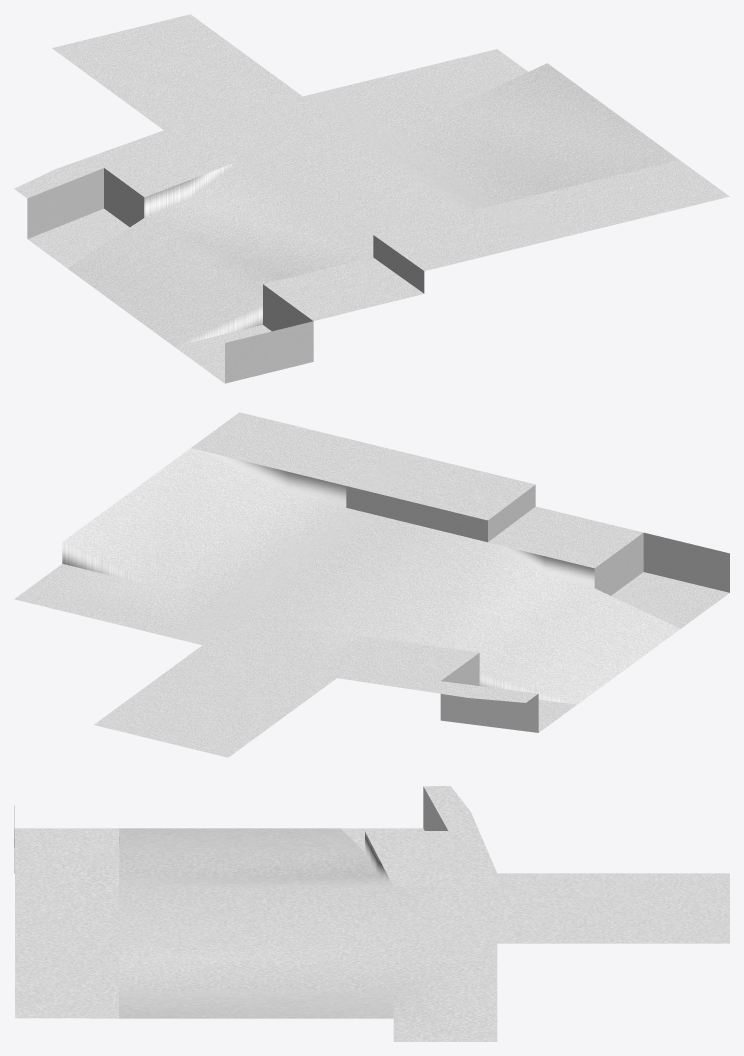
Rendered from Floor_01.fbx.
3 views of the same model, one above another, from view 1: azimuth 30°, elevation 25°; view 2: azimuth 150°, elevation 25°; view 3: azimuth 270°, elevation 25° (orthographic). The views are drawn at different scales.
Visible parts, largest first — view 1: Floor01; view 2: Floor01; view 3: Floor01.
Part boxes in pixels (x1=…): Floor01: x1=14, y1=14, x2=729, y2=383; Floor01: x1=14, y1=412, x2=729, y2=757; Floor01: x1=14, y1=786, x2=729, y2=1041.
Bounding box in the file's own units: 9103 × 1090 × 10769.
